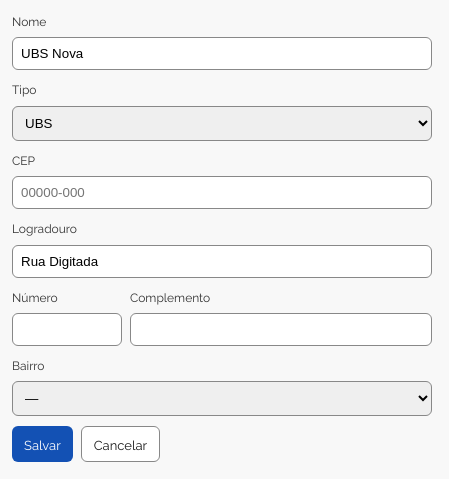
Test: UnitForm — CEP › CEP geral (logradouro e bairro vazios): não apaga a rua nem escolhe bairro
The image size is (449, 479).
Type "80010000" into the field labelled "CEP".
click(222, 193); type("80010000")  # box [12, 176, 432, 209]
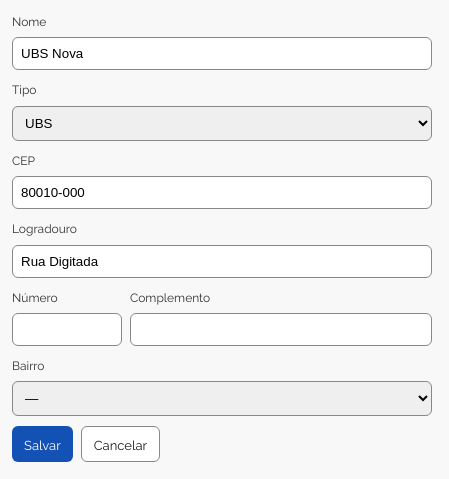
Check: the field labelled "Logradouro" holds "Rua Digitada", box [12, 245, 432, 278]
Check: the field labelled "CEP" holds "80010-000", box [12, 176, 432, 209]
